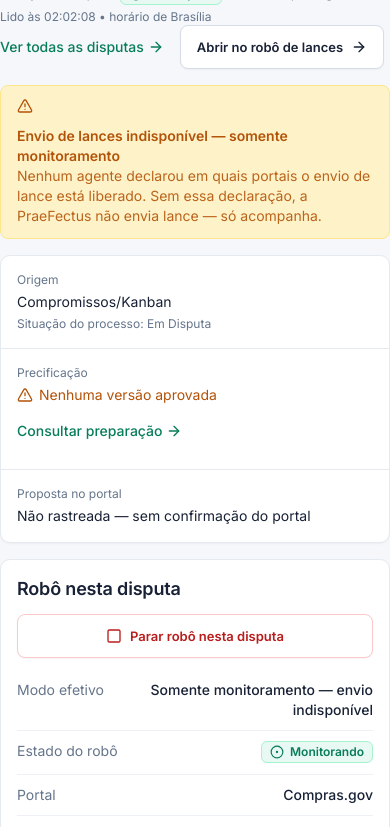
Test: AbaRoboDoProcesso › parada "solicitada" mostra aguardando confirmação — nunca "Parado"
Step 1. Click the button "Parar robô nesta disputa" → click(195, 636), box x1=17 y1=614 x2=373 y2=658
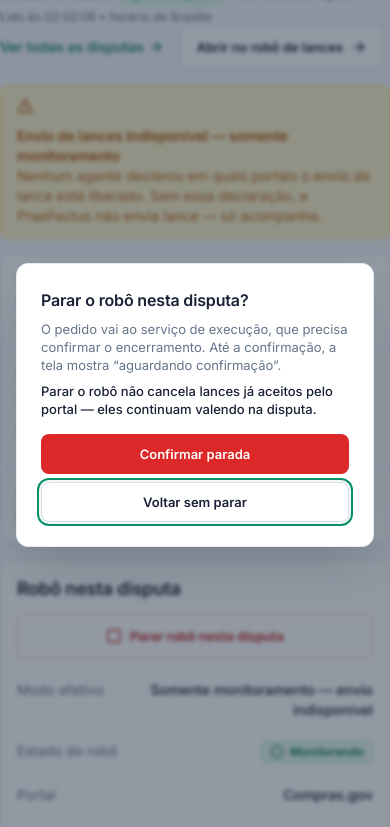
Result: the text "não cancela lances já aceitos pelo portal" is shown at x1=41 y1=383 x2=333 y2=417
Step 2. Click the button "Confirmar parada" → click(195, 454), box x1=41 y1=434 x2=349 y2=474
(page scrolled)
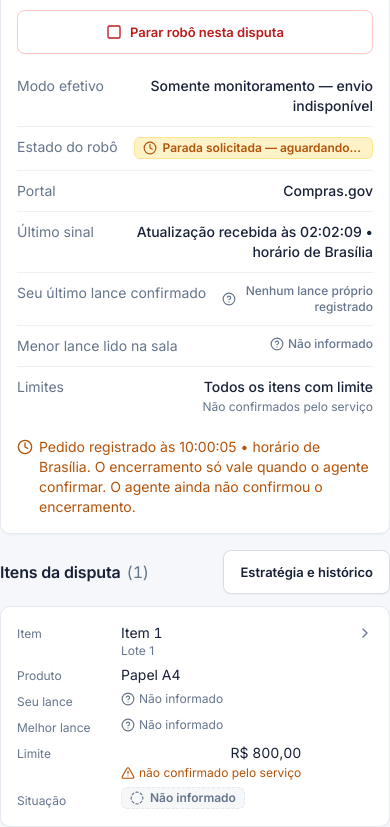
Result: the text "Pedido registrado às 10:00:05 • horário de Brasília" is shown at x1=39 y1=438 x2=320 y2=475
